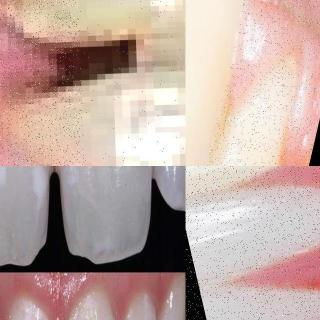Gum Swelling: (212, 0, 320, 166)
